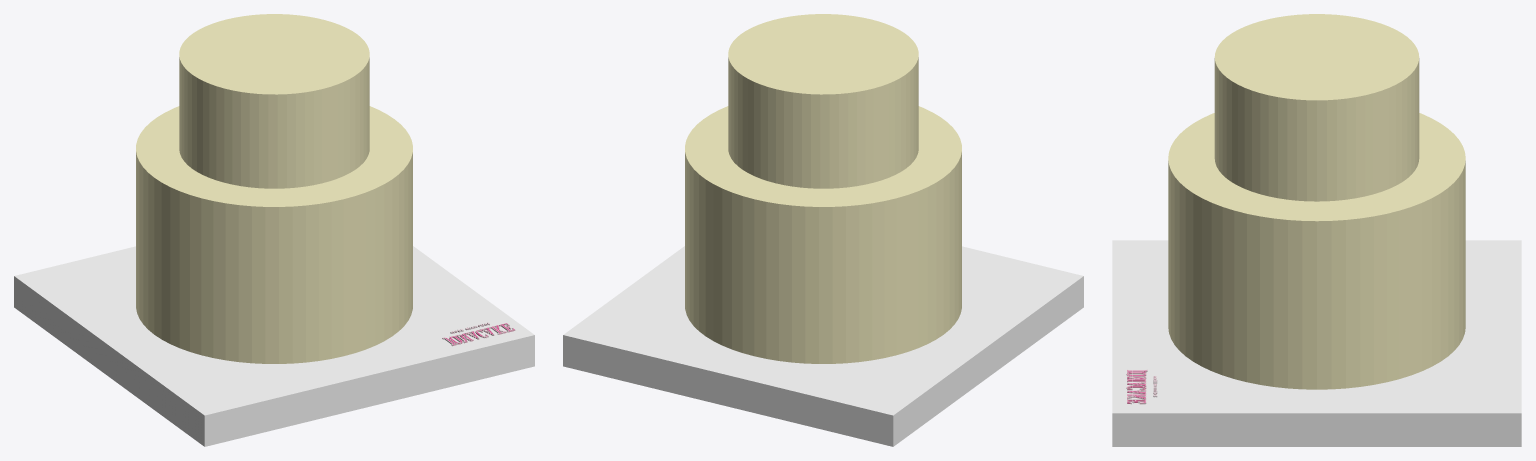
The model's file is cake_tier2_6-4_layers2_v36.glb.
3 renders of one model, left to right at view 1: azimuth 30°, elevation 25°; view 2: azimuth 150°, elevation 25°; view 3: azimuth 270°, elevation 25°, orthographic. The views are drawn at different scales.
Parts seen in each view (by area): view 1: Tier1_6in, Board, Tier2_4in, Logo; view 2: Tier1_6in, Board, Tier2_4in; view 3: Tier1_6in, Board, Tier2_4in, Logo.
Boxes of the visible parts, box(x1,y1,x2,y2) form: Tier1_6in: box(136, 106, 412, 363); Board: box(14, 246, 534, 446); Tier2_4in: box(179, 14, 369, 188); Logo: box(442, 322, 515, 346); Tier1_6in: box(685, 106, 961, 363); Board: box(563, 246, 1083, 446); Tier2_4in: box(728, 14, 918, 188); Tier1_6in: box(1168, 113, 1465, 389); Board: box(1112, 240, 1521, 446); Tier2_4in: box(1214, 14, 1419, 201); Logo: box(1126, 369, 1157, 404).
Size of the model in its own units: 0.22 by 0.18 by 0.22.
